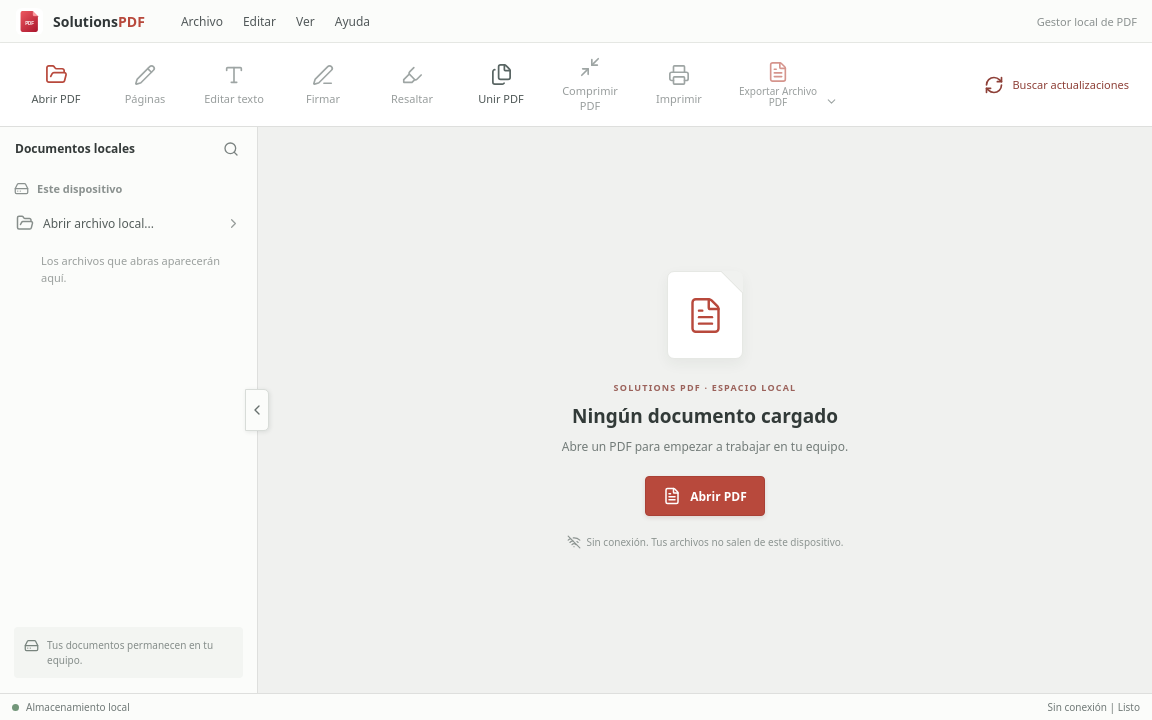
Test: App document flows › shows an explicit error when opening a PDF fails
Click the 1st button "Abrir PDF". click: (56, 84)
box: x1=13 y1=50 x2=99 y2=119
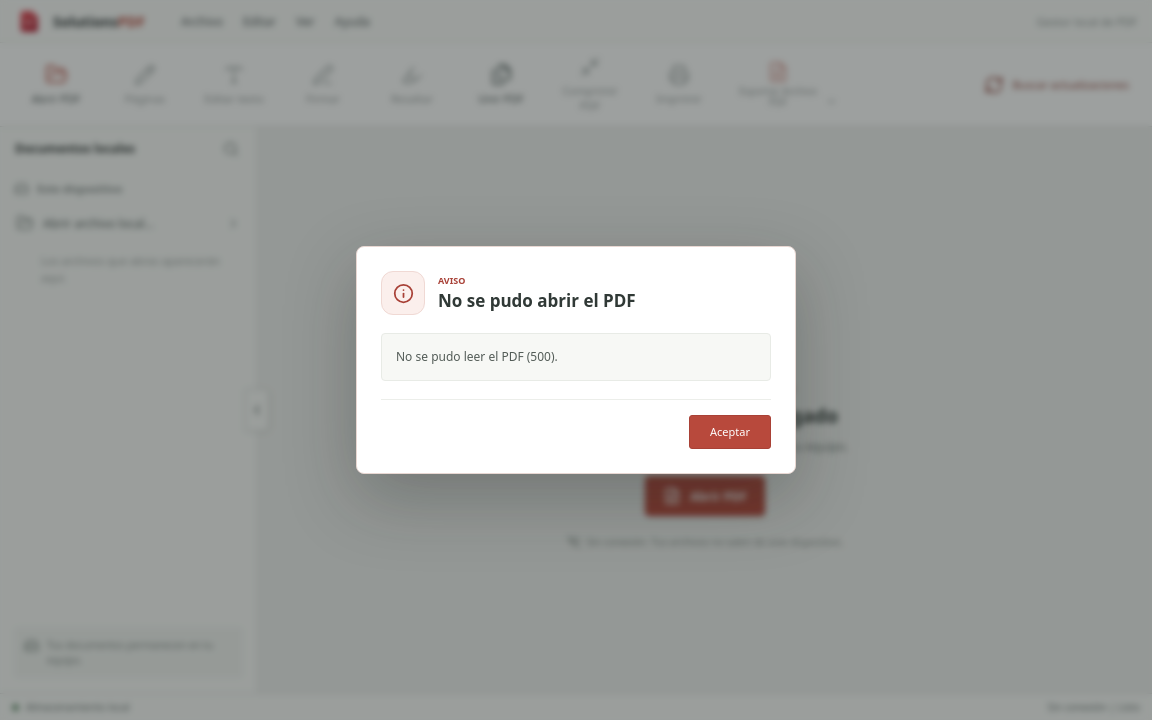
Now the dialog is shown, box x1=356 y1=246 x2=796 y2=474
Now the heading "No se pudo abrir el PDF" is shown, box x1=438 y1=290 x2=636 y2=312
